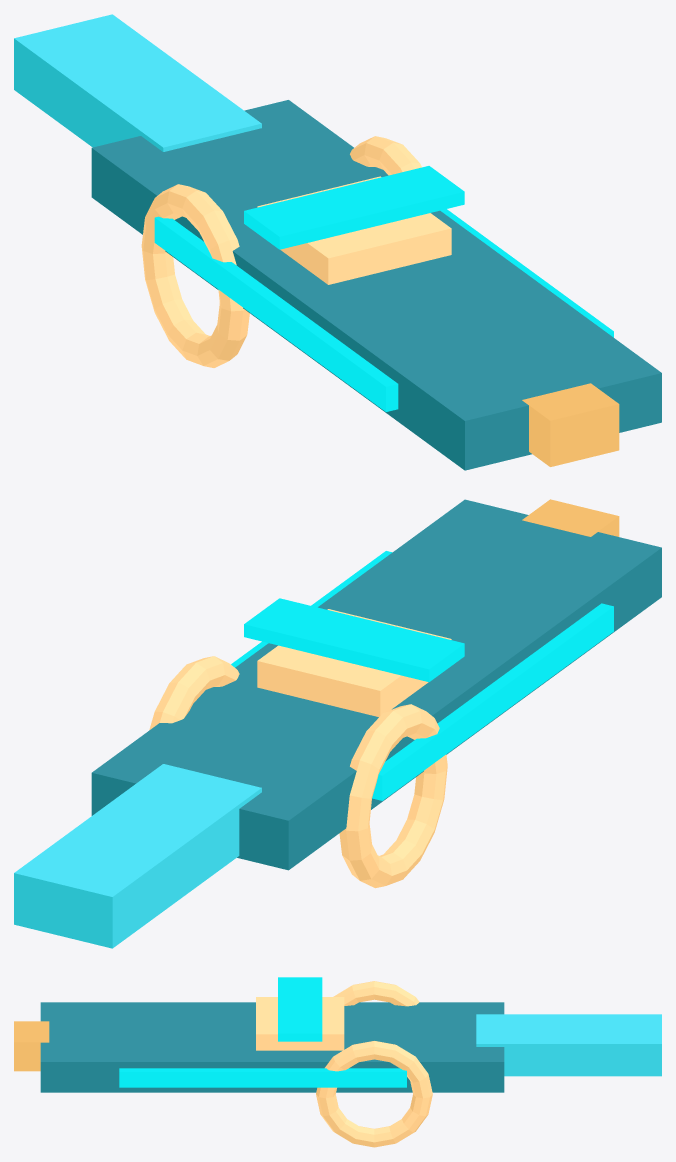
File: bike_speed.glb
3 views of the same model, one above another, from view 1: azimuth 30°, elevation 25°; view 2: azimuth 150°, elevation 25°; view 3: azimuth 270°, elevation 25° (orthographic). The views are drawn at different scales.
Parts seen in each view (by area): view 1: chassis, body_nose, wheel_l, glow_strip_roof, glow_strip_side, canopy_wheel, emitter, wheel_r, glow_strip_side.001; view 2: chassis, body_nose, wheel_l, glow_strip_roof, glow_strip_side, canopy_wheel, wheel_r, emitter, glow_strip_side.001; view 3: chassis, body_nose, glow_strip_side.001, wheel_r, glow_strip_roof, canopy_wheel, emitter, wheel_l.
Boxes of the visible parts, x1,y1,x2,y2 form: chassis: (91,100,661,470); body_nose: (14,14,261,151); wheel_l: (141,184,249,367); glow_strip_roof: (244,166,464,249); glow_strip_side: (154,216,398,411); canopy_wheel: (257,176,451,284); emitter: (522,383,619,466); wheel_r: (350,136,421,175); glow_strip_side.001: (440,209,613,337); chassis: (91,499,661,870); body_nose: (14,764,261,948); wheel_l: (339,704,447,888); glow_strip_roof: (244,598,464,681); glow_strip_side: (372,603,613,800); canopy_wheel: (257,609,451,716); wheel_r: (149,656,239,729); emitter: (522,499,619,536); glow_strip_side.001: (231,551,392,667); chassis: (40,1002,504,1092); body_nose: (476,1014,661,1076); glow_strip_side.001: (119,1068,406,1087); wheel_r: (316,1041,432,1147); glow_strip_roof: (278,977,322,1041); canopy_wheel: (256,997,344,1050); emitter: (14,1021,49,1071); wheel_l: (333,981,419,1006).
Size of the model in its own units: 0.37 by 0.2793 by 1.47.
